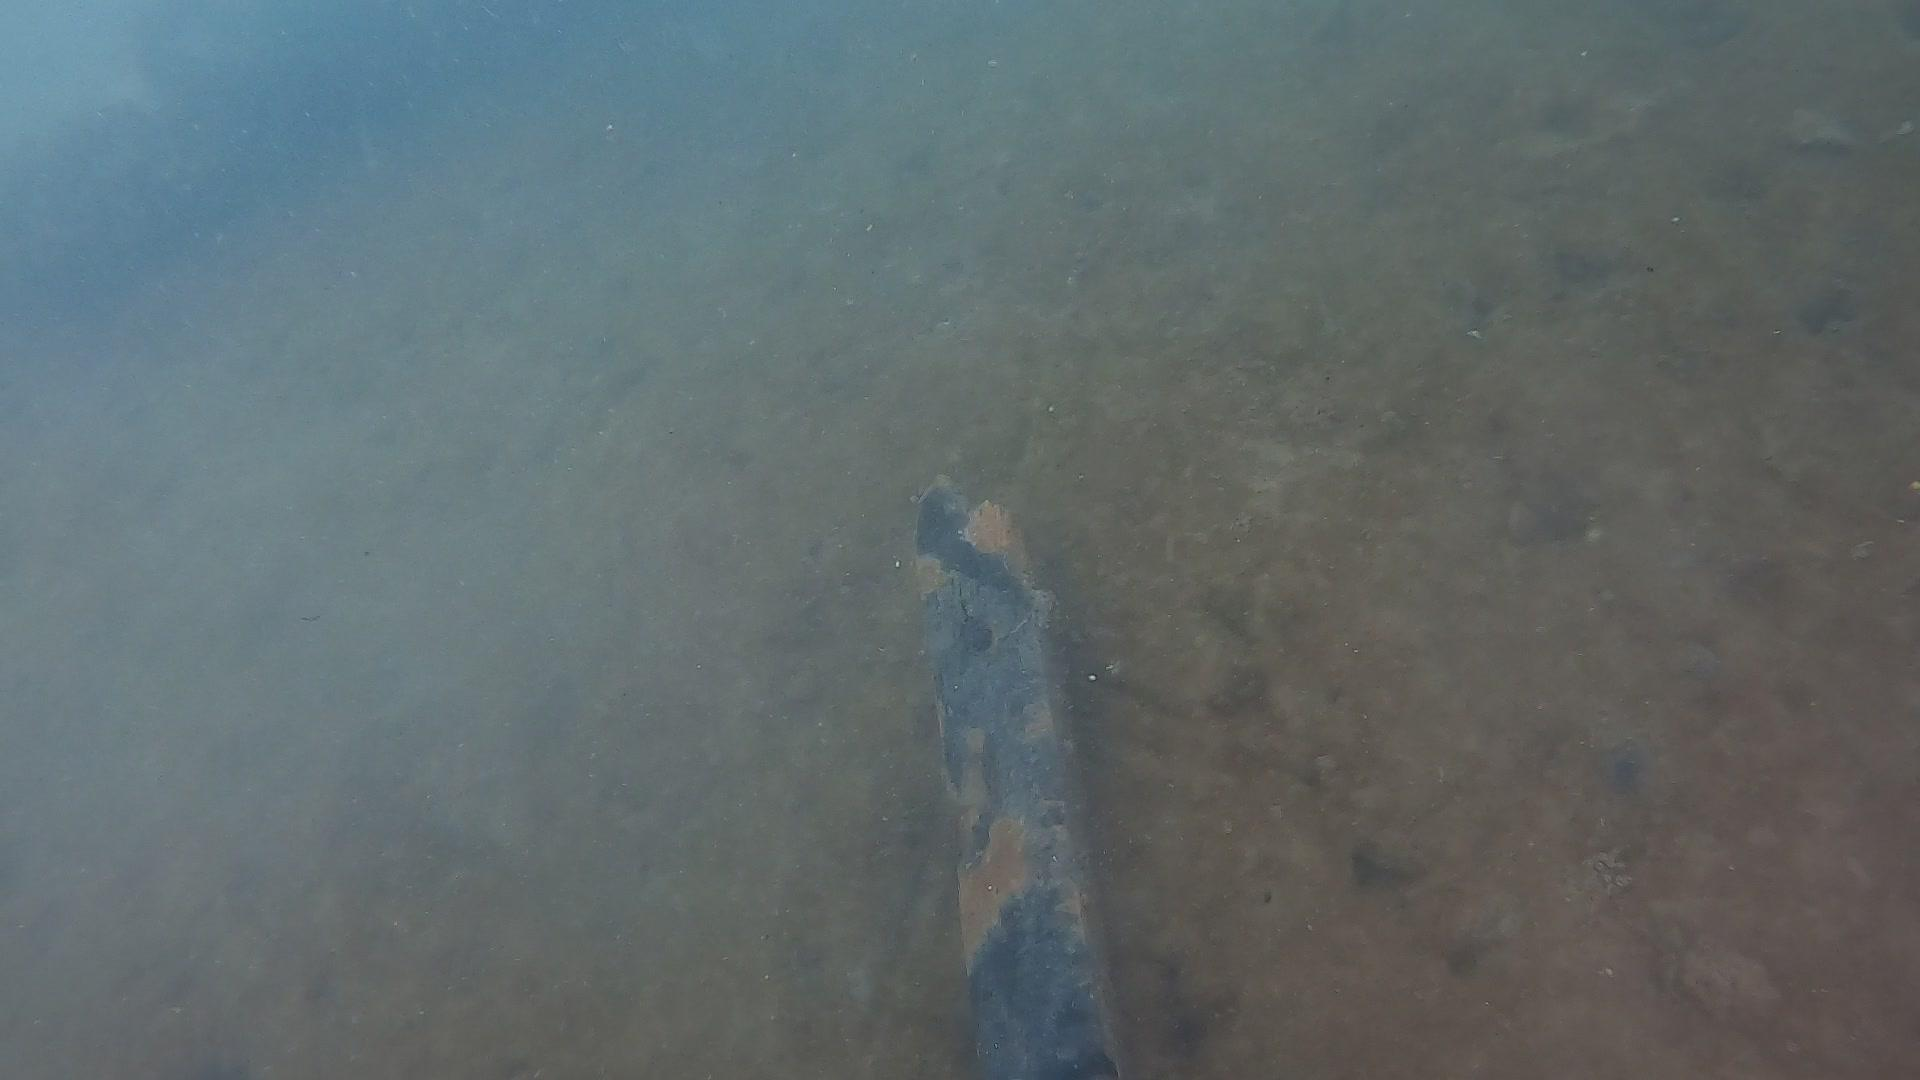wood: (905, 473, 1138, 1080)
